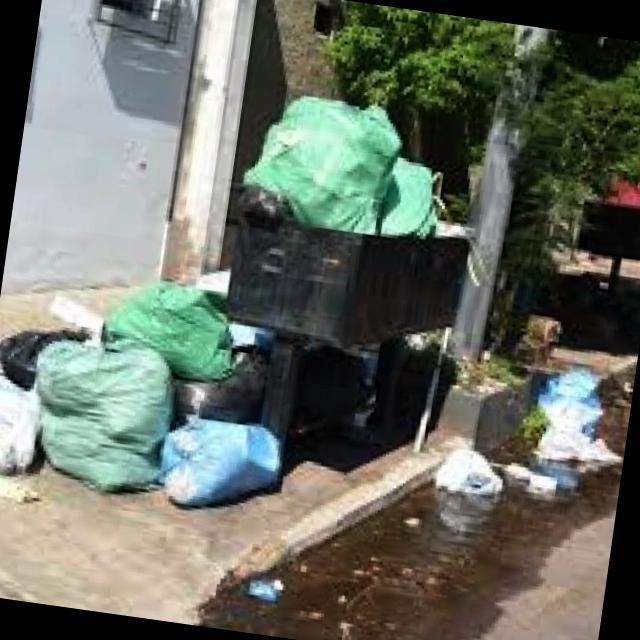garbage: (0, 37, 631, 557)
